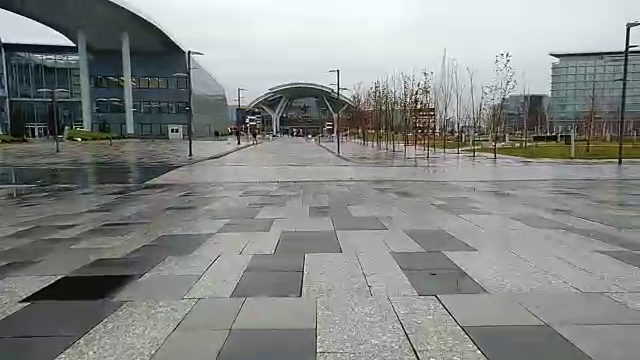mega: (243, 79, 366, 145)
